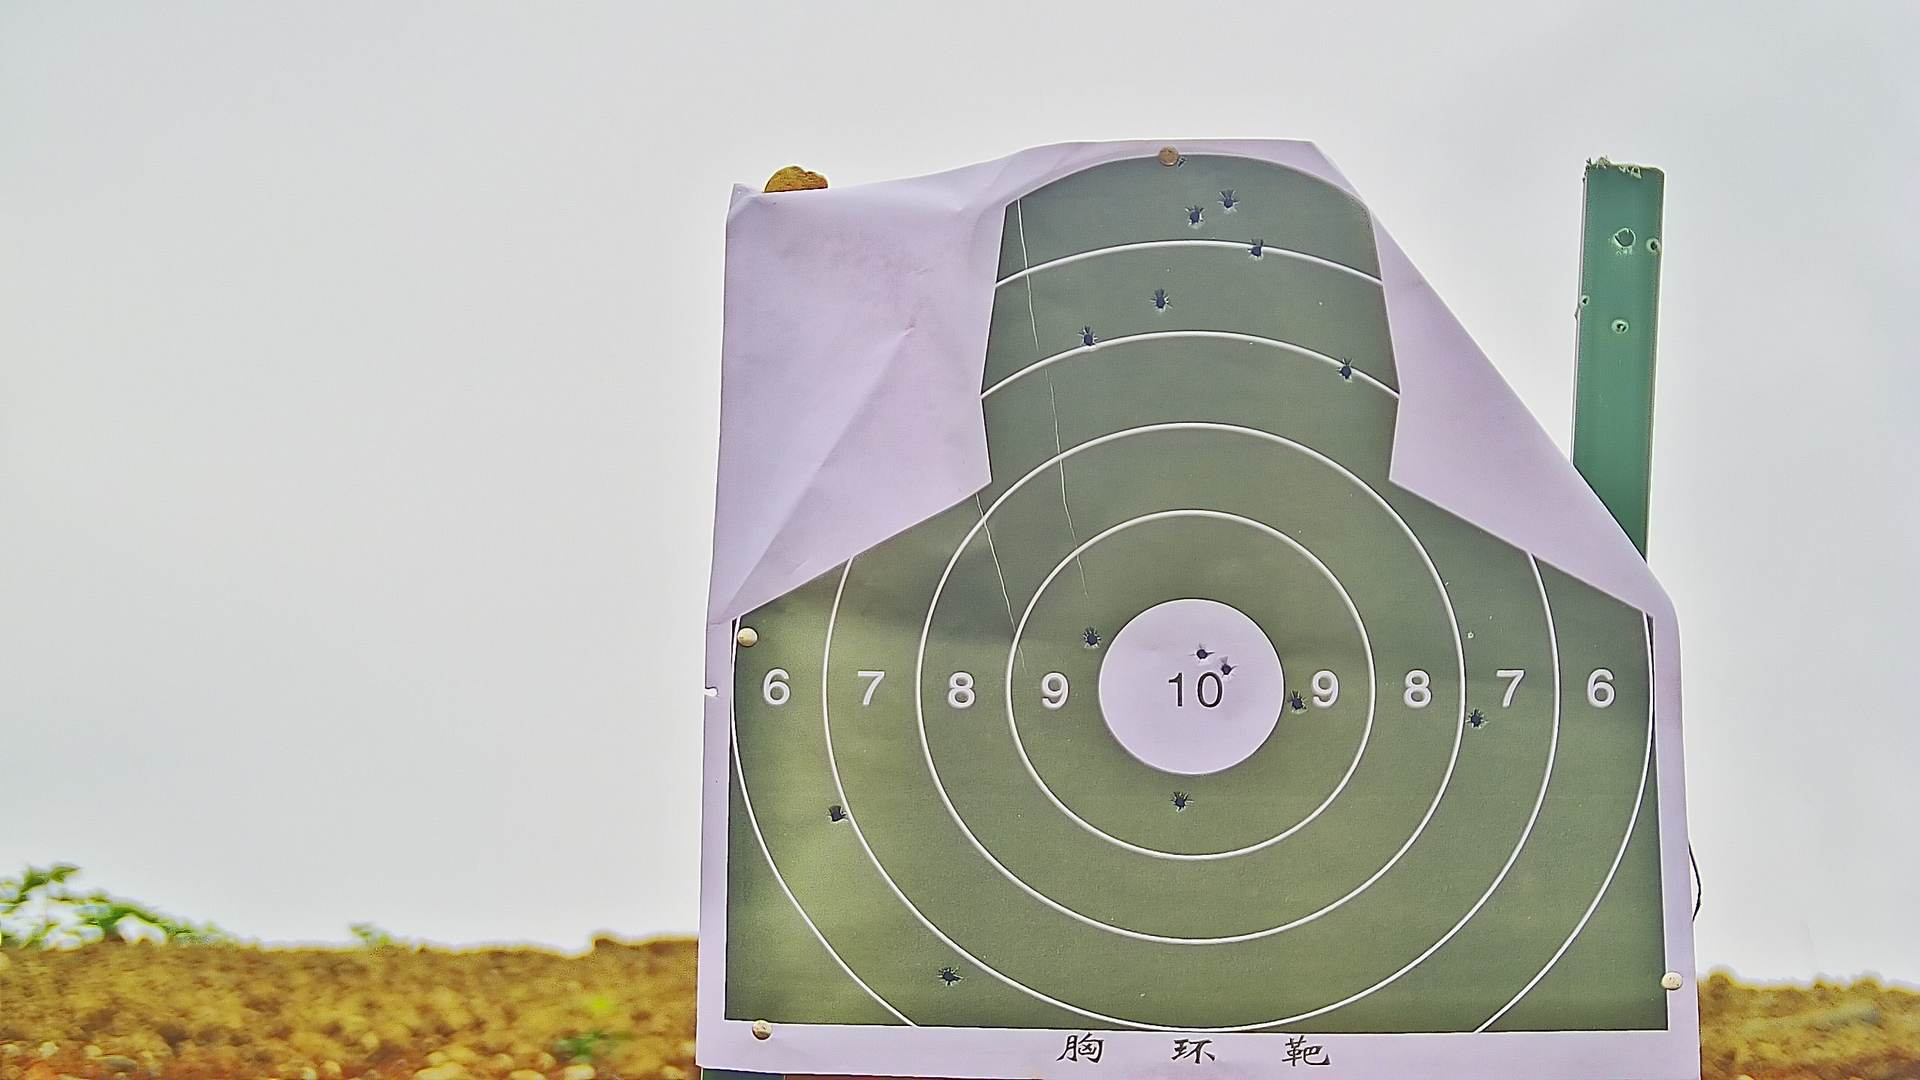hole: (1168, 789, 1193, 812), (1286, 690, 1309, 713), (1466, 708, 1487, 729), (1083, 628, 1101, 647), (1185, 208, 1203, 227), (829, 804, 844, 825), (939, 967, 957, 982), (1220, 193, 1236, 210), (1338, 364, 1353, 381), (1083, 331, 1098, 345), (1193, 645, 1208, 659), (1250, 241, 1263, 257), (1156, 294, 1168, 311), (1221, 659, 1232, 675)
kernel: (1185, 690, 1193, 694)
target: (736, 161, 1669, 1033)
ten: (1095, 600, 1282, 769)
